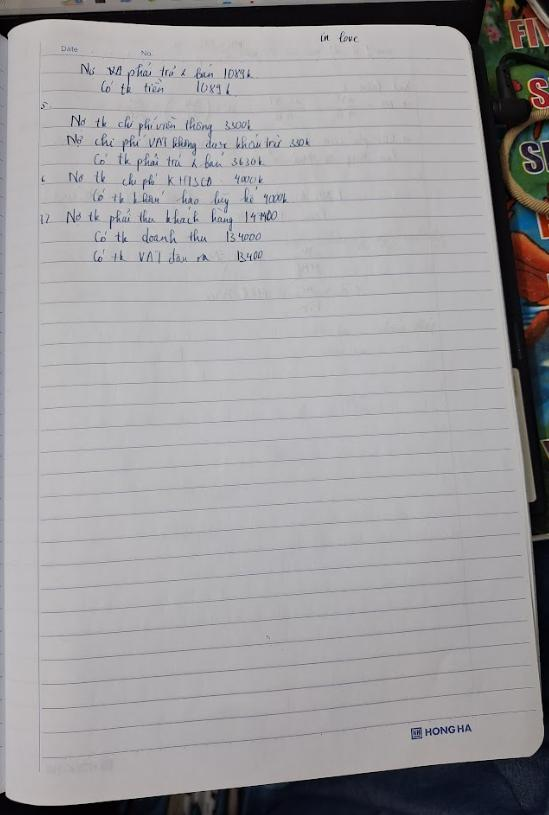text: (39, 204, 280, 230), (63, 132, 314, 155), (65, 169, 265, 194), (68, 112, 255, 138), (89, 188, 290, 211), (74, 60, 255, 84), (91, 245, 265, 269), (90, 150, 266, 171), (93, 228, 264, 247), (96, 79, 234, 100), (504, 14, 548, 51), (519, 135, 549, 178), (424, 721, 474, 740), (525, 76, 549, 111), (316, 31, 360, 45), (59, 44, 83, 56), (139, 48, 156, 60)
